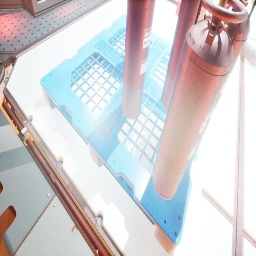0: (206, 0, 213, 15), (248, 30, 256, 41), (252, 0, 256, 6)
FirstAidBox ,: (176, 0, 182, 16), (171, 0, 178, 6)
NitrogenTank ,: (152, 0, 247, 200), (190, 0, 256, 160), (162, 0, 207, 110), (122, 0, 156, 120), (240, 35, 256, 66)
